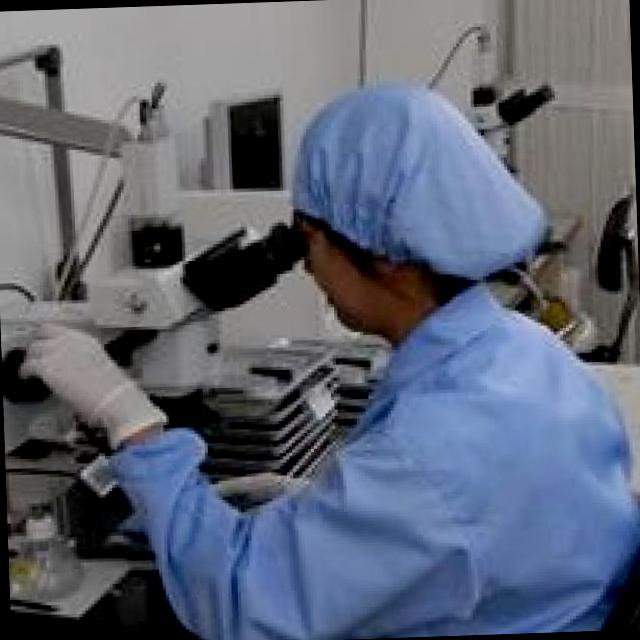no_vest: (250, 274, 640, 640)
